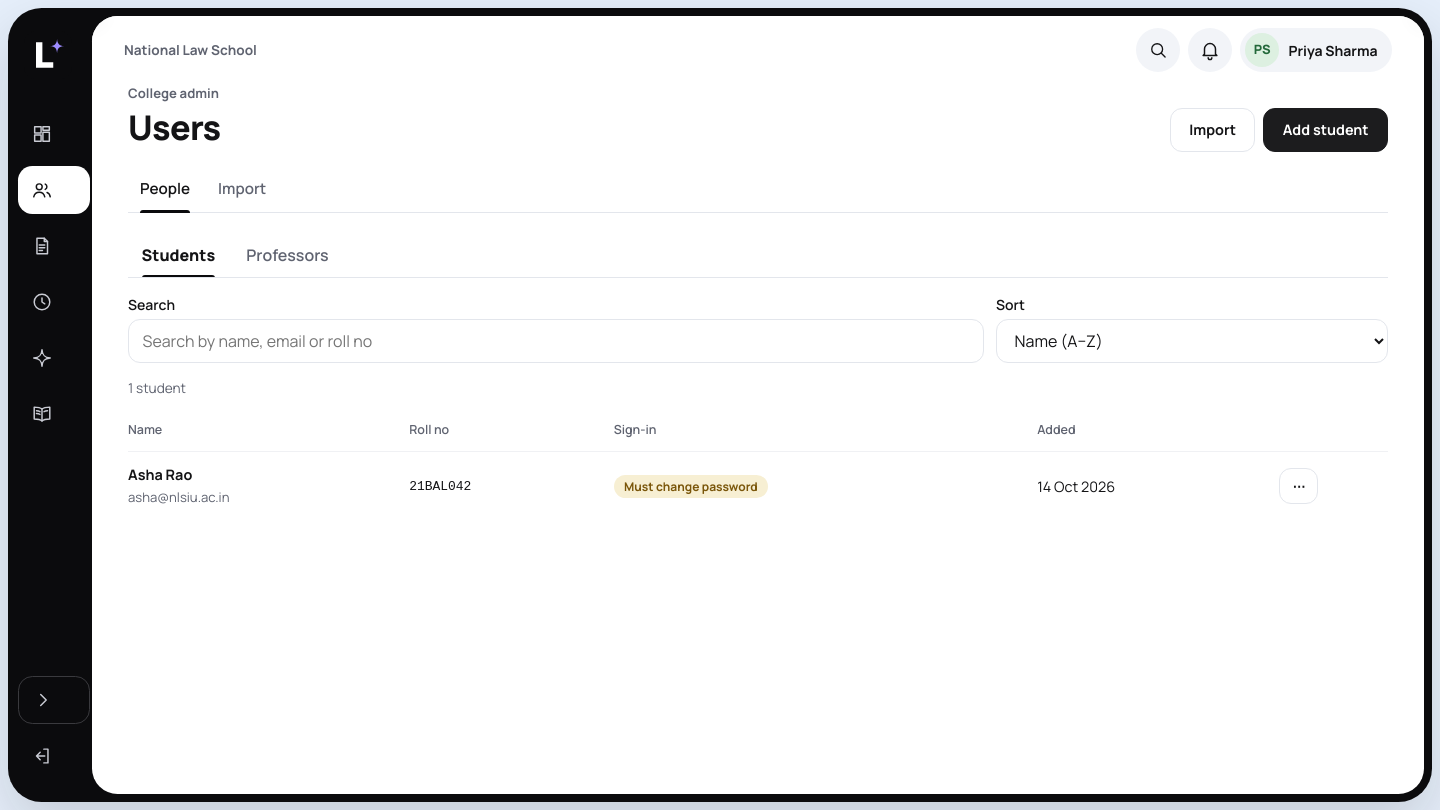
Test: users list › lists students by default and sends the role; the Professors tab switches it
This screenshot has width=1440, height=810.
Expected: the text "Must change password" is shown, [614, 475, 768, 498]
Expected: the text "1 student" is shown, [128, 380, 186, 399]
Click the tab "Professors" at (287, 255), box [233, 233, 342, 277]
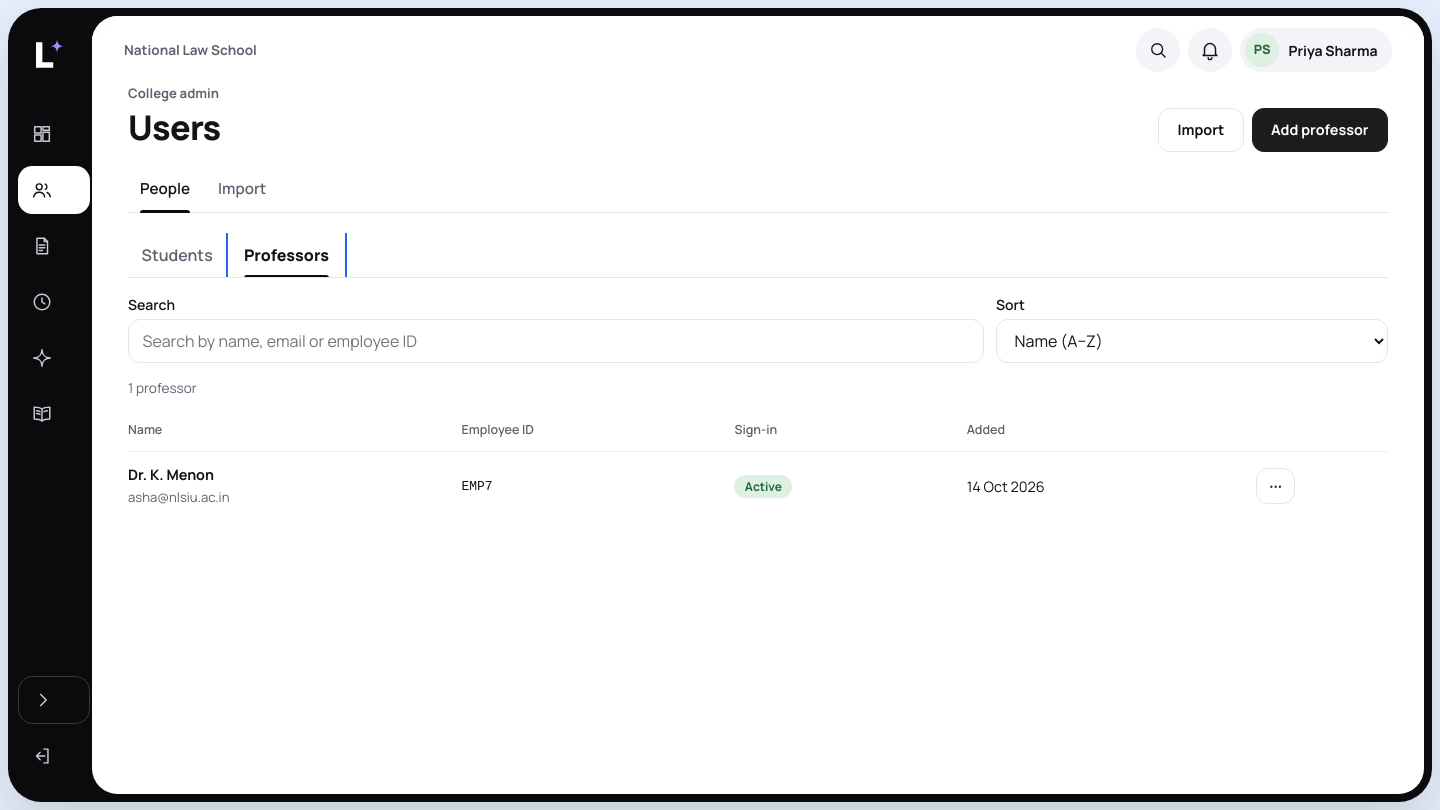
Expected: the table named "Professors" is shown, [128, 409, 1388, 520]
Expected: the column heading "Employee ID" is shown, [450, 409, 722, 452]
